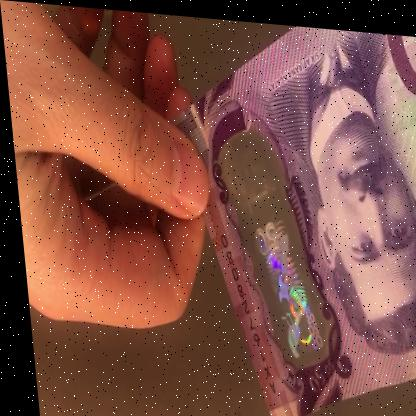50F: (224, 145, 322, 359)
